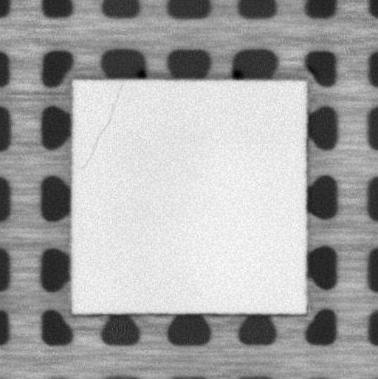DIE_CRACK: (83, 84, 124, 168)
